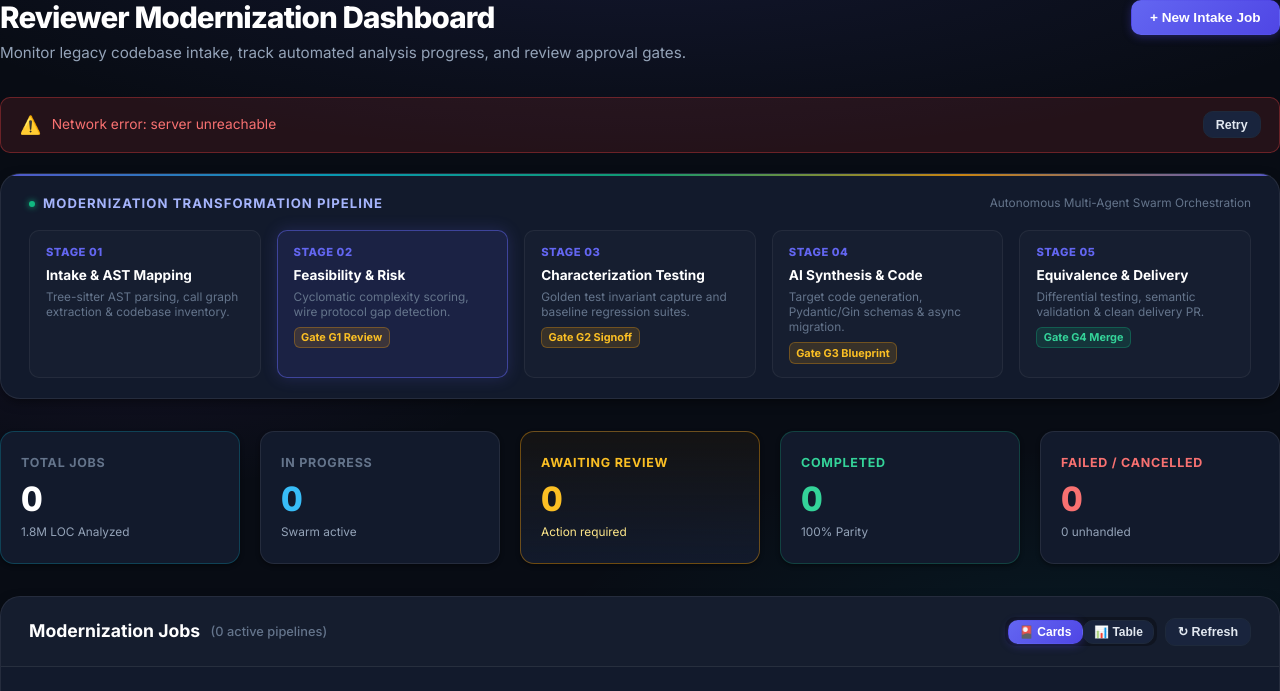
DashboardView Component › displays error recovery alert and allows retry when API fails
Check: the text "Network error: server unreachable" is shown, box [52,115,276,134]
What coordinates should you click on to do the following:
click the button "Retry"
I would click on:
 (1232, 125)
Its box is [1203,111,1261,138].
(page scrolled)
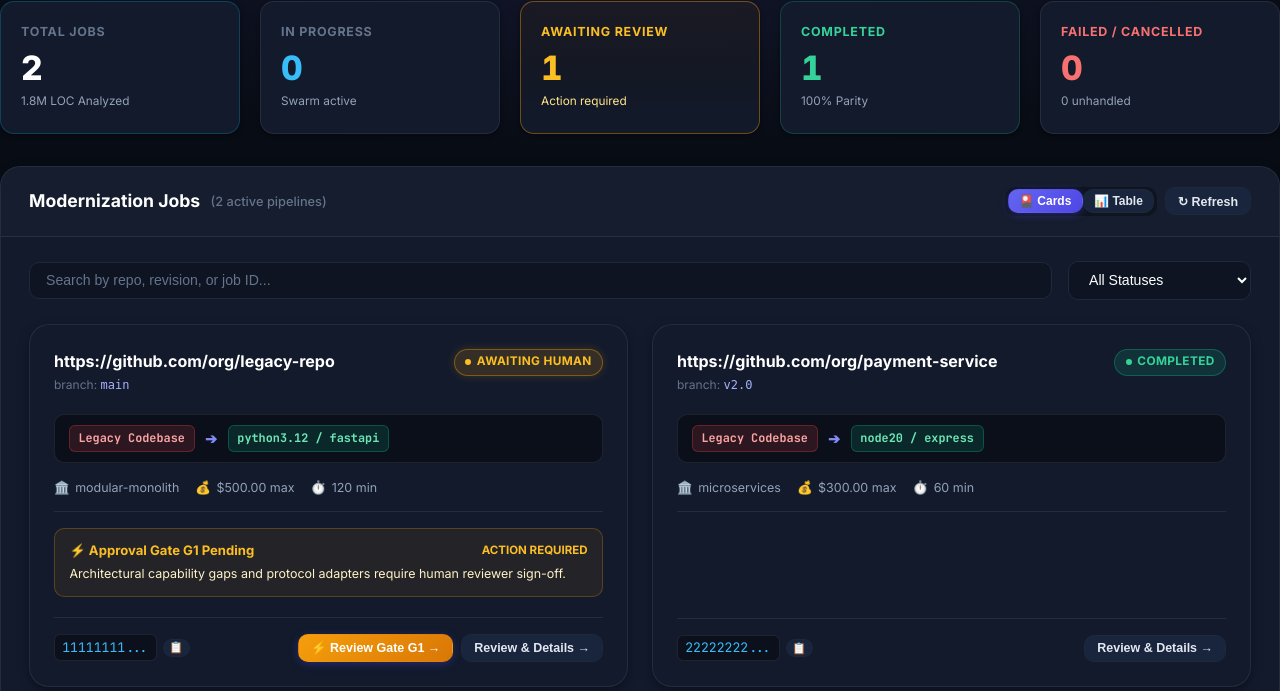
Check: the text "https://github.com/org/legacy-repo" is shown, box [54,349,335,373]
